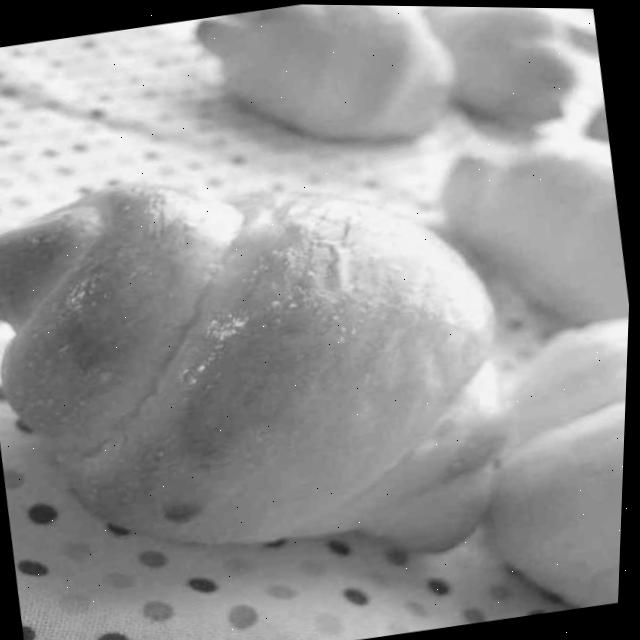面包点心: (0, 116, 555, 621)
